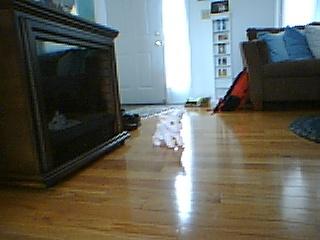piggy: (151, 109, 188, 149)
